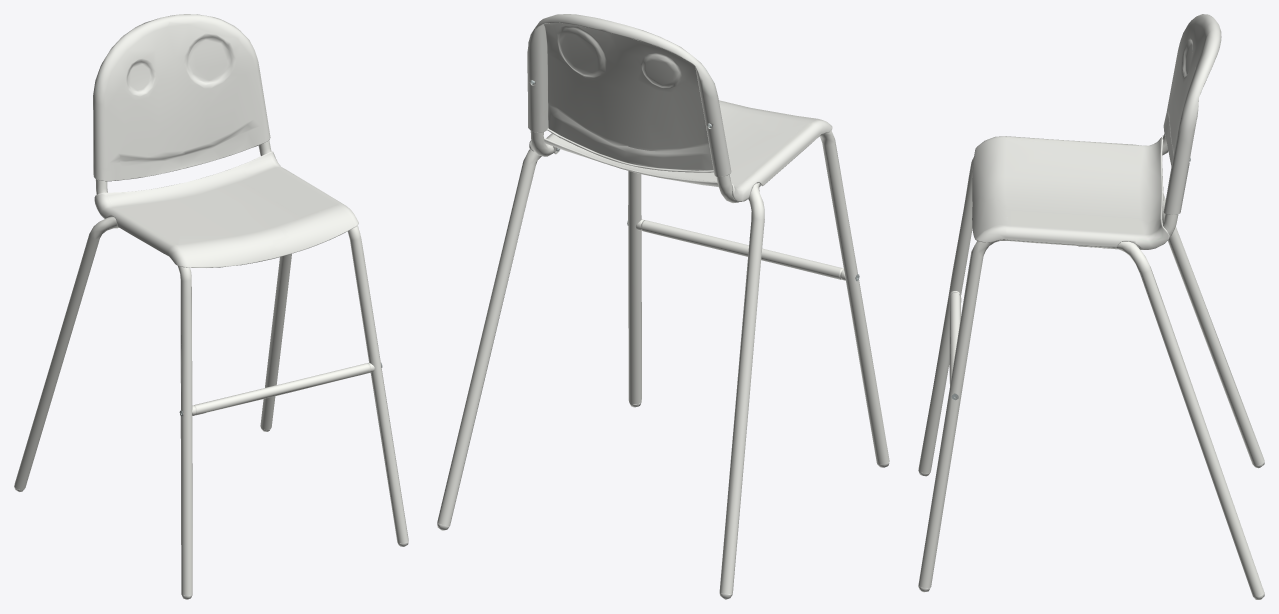
Rendered from vildgas_krzeso_dzieciece_70589384.glb.
The picture shows the model from 3 angles, left to right: view 1: azimuth 30°, elevation 25°; view 2: azimuth 150°, elevation 25°; view 3: azimuth 270°, elevation 25°; orthographic projection. The views are drawn at different scales.
Visible parts, largest first — view 1: vildgas_krzeso_dzieciece_70589384; view 2: vildgas_krzeso_dzieciece_70589384; view 3: vildgas_krzeso_dzieciece_70589384.
Boxes of the visible parts, x1,y1,x2,y2 form: vildgas_krzeso_dzieciece_70589384: (14, 14, 408, 599); vildgas_krzeso_dzieciece_70589384: (437, 14, 889, 599); vildgas_krzeso_dzieciece_70589384: (918, 14, 1264, 599).
Size of the model in its own units: 0.4625 by 0.7918 by 0.4932.
1 material, 1 textured.
